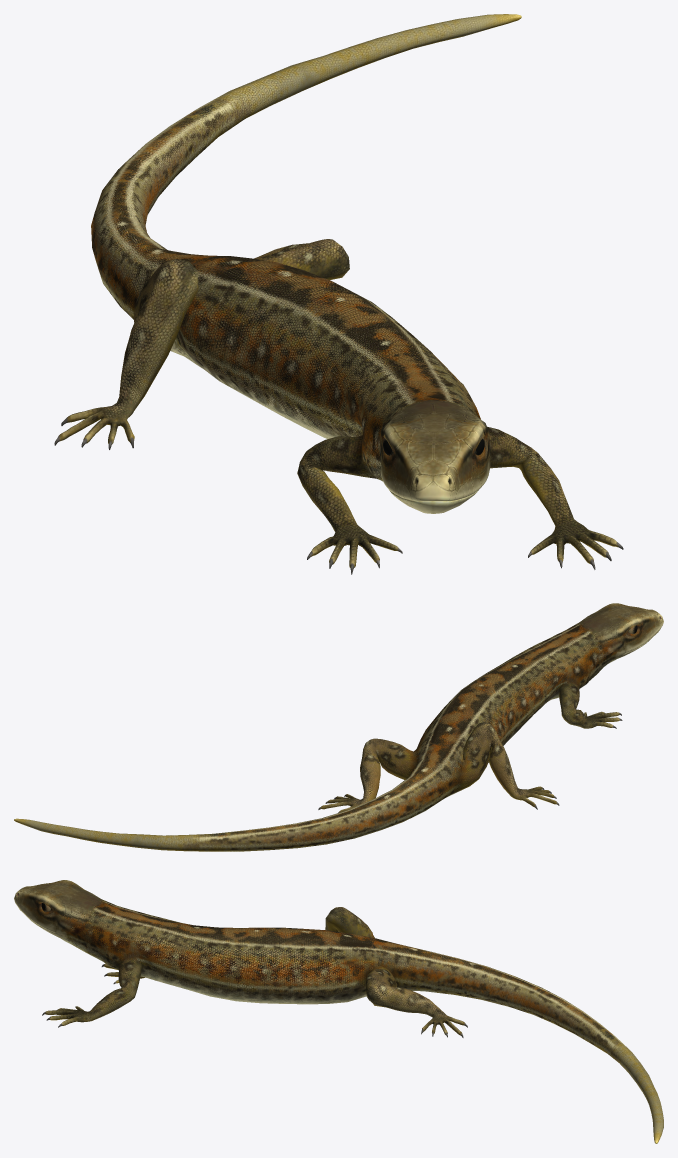
Rendered from Running516.obj.
3 renders of one model, top to bottom at view 1: azimuth 30°, elevation 25°; view 2: azimuth 150°, elevation 25°; view 3: azimuth 270°, elevation 25°, orthographic. The views are drawn at different scales.
Visible parts, largest first — view 1: Lizard; view 2: Lizard; view 3: Lizard.
Boxes of the visible parts, box(x1,y1,x2,y2) form: Lizard: box(54, 14, 623, 574); Lizard: box(14, 603, 663, 851); Lizard: box(14, 880, 663, 1143).
Size of the model in its own units: 55.93 by 12.04 by 76.29.
